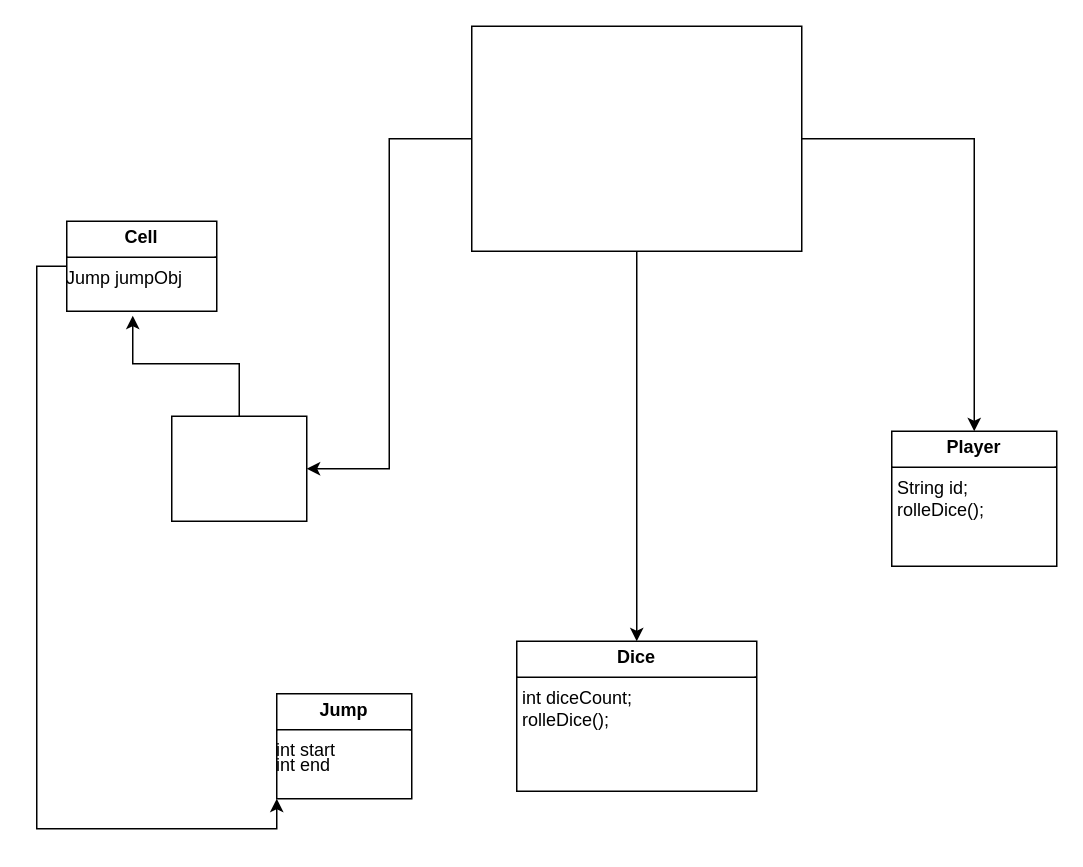
This 1083x867 diagram has some shape labels left out. The shapes that lost their labels are listed below. From the top down, each one's centre as x and y in pixels, then its label:
the point at 636,138: Game Board board; Dice dice; Deque<Player> players;
the point at 238,468: Board Cells [][]cells
